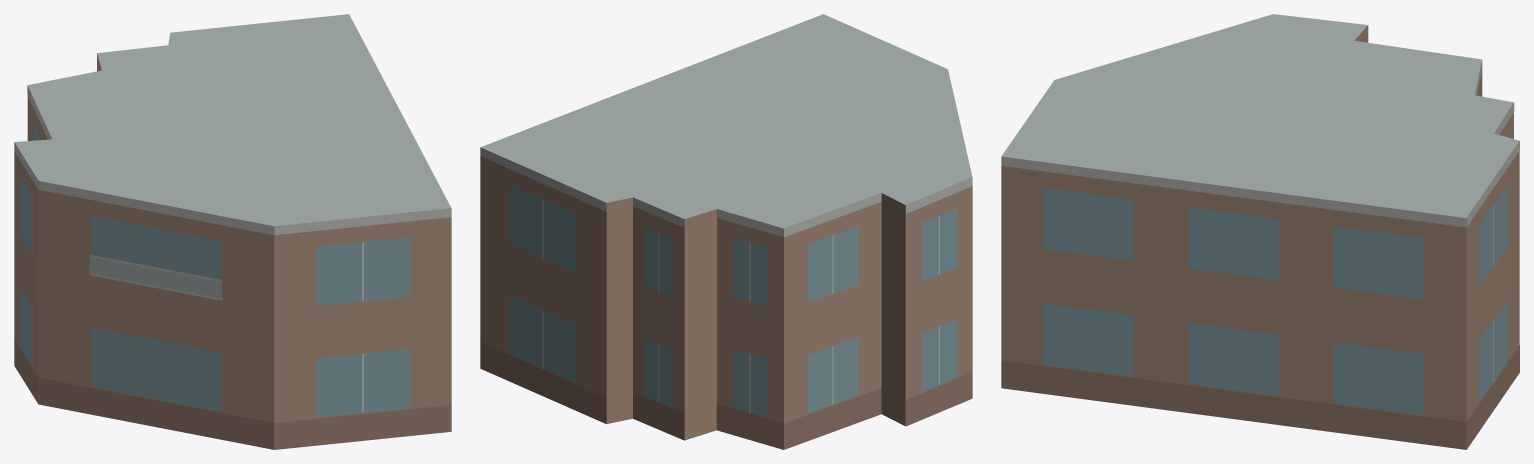
The model's file is survey-upis-32690748.glb.
3 renders of one model, left to right at view 1: azimuth 30°, elevation 25°; view 2: azimuth 150°, elevation 25°; view 3: azimuth 270°, elevation 25°, orthographic. The views are drawn at different scales.
Visible parts, largest first — view 1: survey-upis-32690748.tmp; view 2: survey-upis-32690748.tmp; view 3: survey-upis-32690748.tmp.
Boxes of the visible parts, x1,y1,x2,y2 form: survey-upis-32690748.tmp: (14, 14, 451, 449); survey-upis-32690748.tmp: (480, 14, 972, 449); survey-upis-32690748.tmp: (1001, 14, 1519, 449).
Size of the model in its own units: 11.54 by 6.1 by 12.39.
